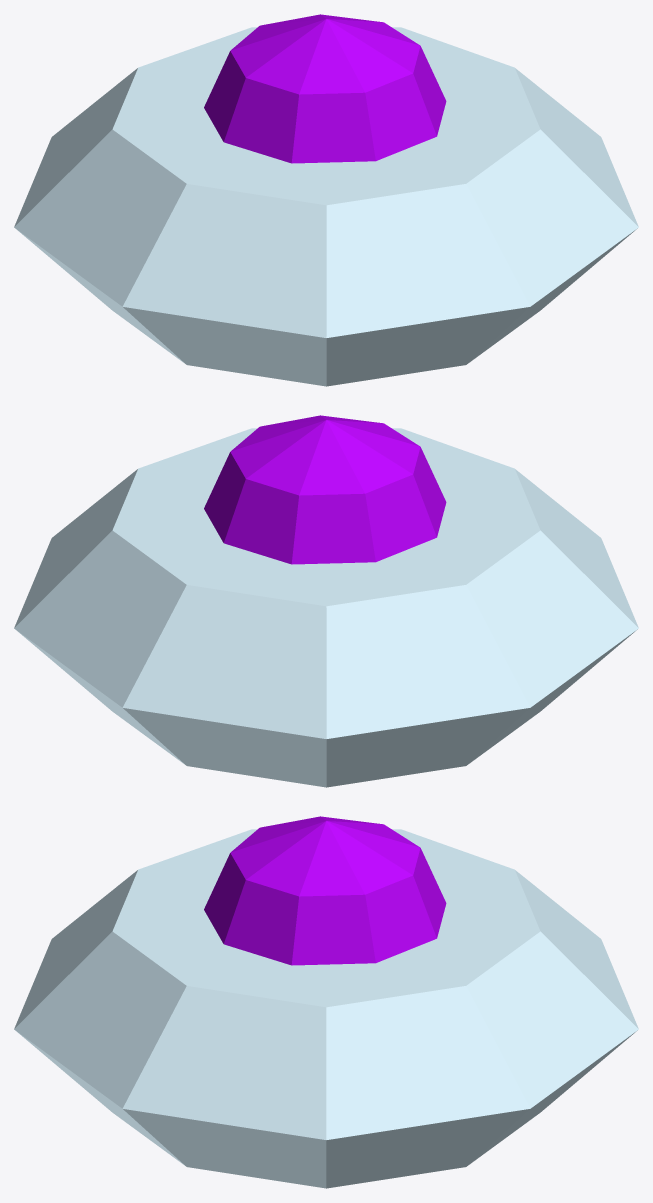
The model's file is ufo.dae.
3 renders of one model, top to bottom at view 1: azimuth 30°, elevation 25°; view 2: azimuth 150°, elevation 25°; view 3: azimuth 270°, elevation 25°, orthographic.
Parts seen in each view (by area): view 1: ring, cockpit; view 2: ring, cockpit; view 3: ring, cockpit.
Part boxes in pixels (x1,y1,x2,y2): ring: (14, 27, 638, 386); cockpit: (204, 14, 446, 163); ring: (14, 428, 638, 787); cockpit: (204, 415, 446, 564); ring: (14, 829, 638, 1188); cockpit: (204, 816, 446, 965).
Size of the model in its own units: 2.83 by 2.88 by 1.4.
